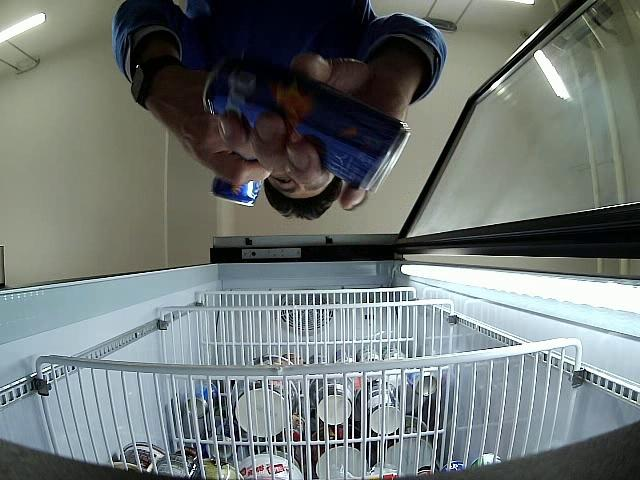00_hand: (217, 54, 417, 210), (156, 72, 270, 186)
16_hot6: (205, 60, 410, 193), (210, 154, 264, 207)
